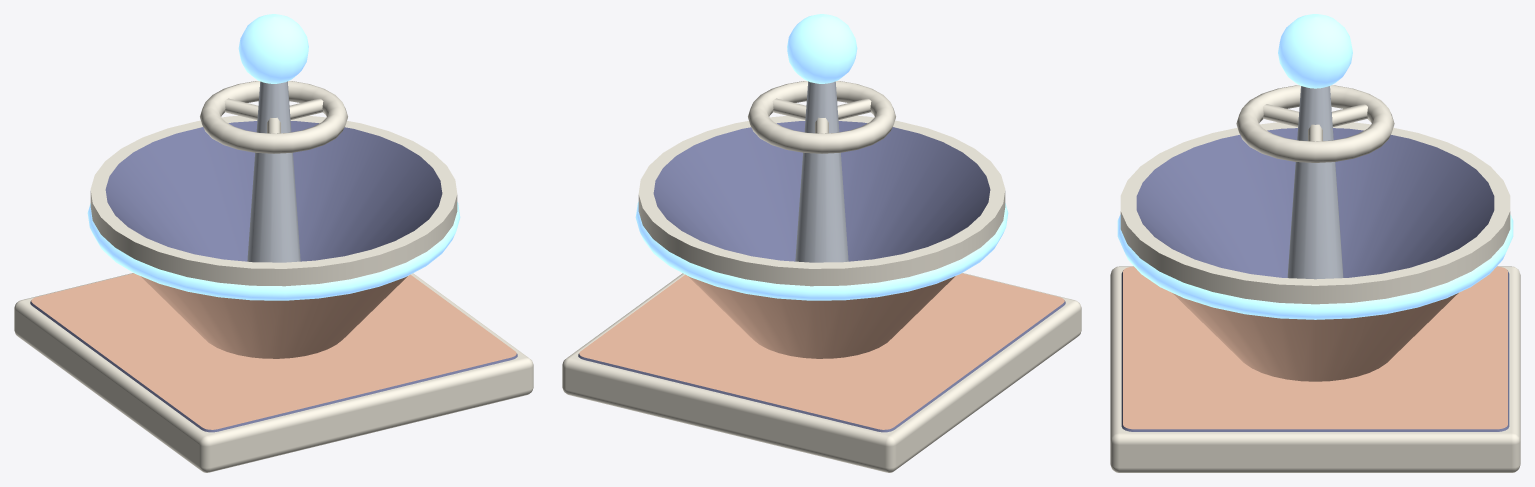
The model's file is R4X_ScannerPulse.fbx.
3 renders of one model, left to right at view 1: azimuth 30°, elevation 25°; view 2: azimuth 150°, elevation 25°; view 3: azimuth 270°, elevation 25°, orthographic. The views are drawn at different scales.
Parts seen in each view (by area): view 1: R4X_ScannerPulse_Body; view 2: R4X_ScannerPulse_Body; view 3: R4X_ScannerPulse_Body.
Part boxes in pixels (box(x1,y1,x2,y2)): R4X_ScannerPulse_Body: box(14, 14, 533, 472); R4X_ScannerPulse_Body: box(562, 14, 1081, 472); R4X_ScannerPulse_Body: box(1110, 14, 1520, 472).
Size of the model in its own units: 0.514 by 0.5172 by 0.514.
